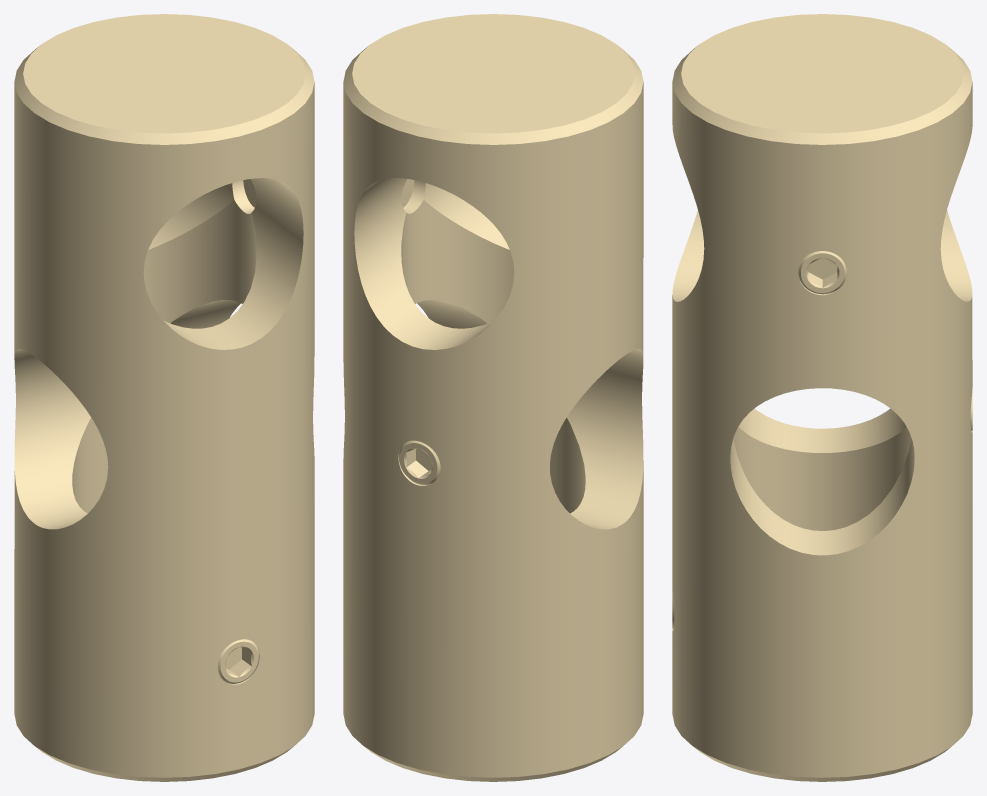
The picture shows the model from 3 angles, left to right: view 1: azimuth 30°, elevation 25°; view 2: azimuth 150°, elevation 25°; view 3: azimuth 270°, elevation 25°; orthographic projection.
Visible parts, largest first — view 1: Type16B v1; view 2: Type16B v1; view 3: Type16B v1.
Boxes of the visible parts, <box> form: Type16B v1: <box>14,14,314,781</box>; Type16B v1: <box>343,14,643,781</box>; Type16B v1: <box>672,14,972,781</box>.
Size of the model in its own units: 0.026 by 0.062 by 0.026.
